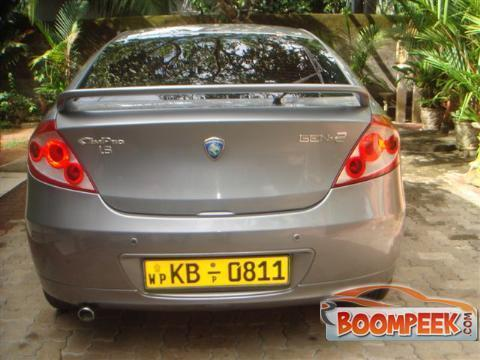license-plate: (139, 256, 290, 289)
